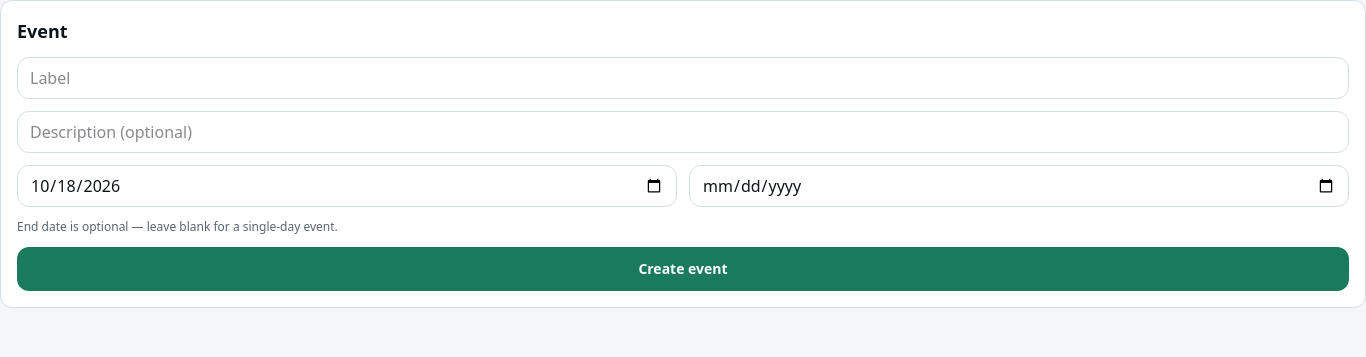
Test case: EventForm › shows validation when label and description are empty
The width and height of the screenshot is (1366, 357).
Click the button "Create event". click: [683, 269]
box: 17,247 -> 1349,291
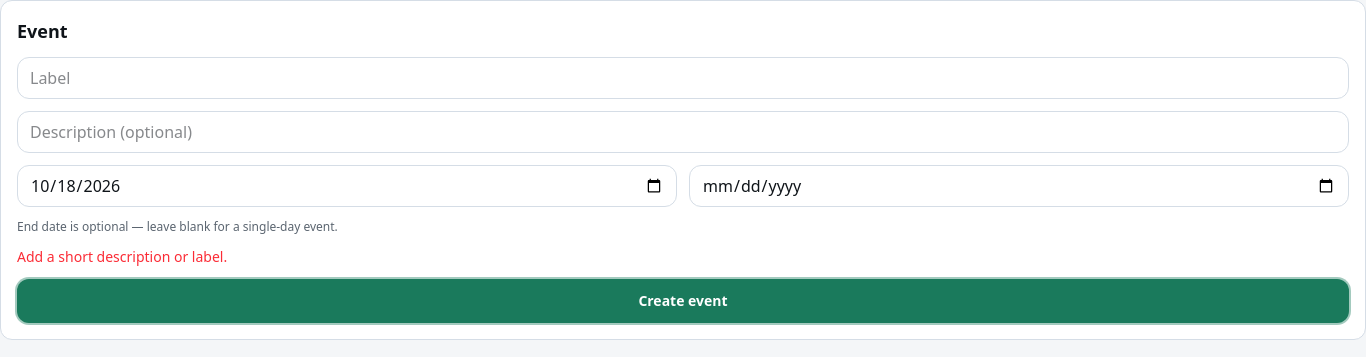
Expected: the message "Add a short description or label." is shown, 17,247 -> 227,266
